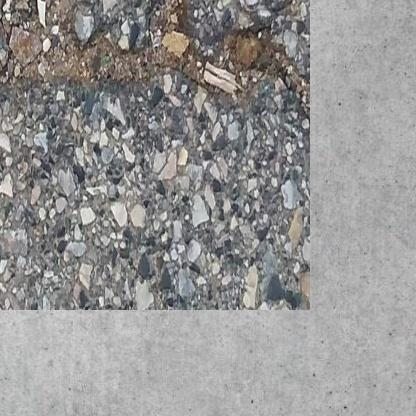Cracks: (0, 0, 286, 116)
